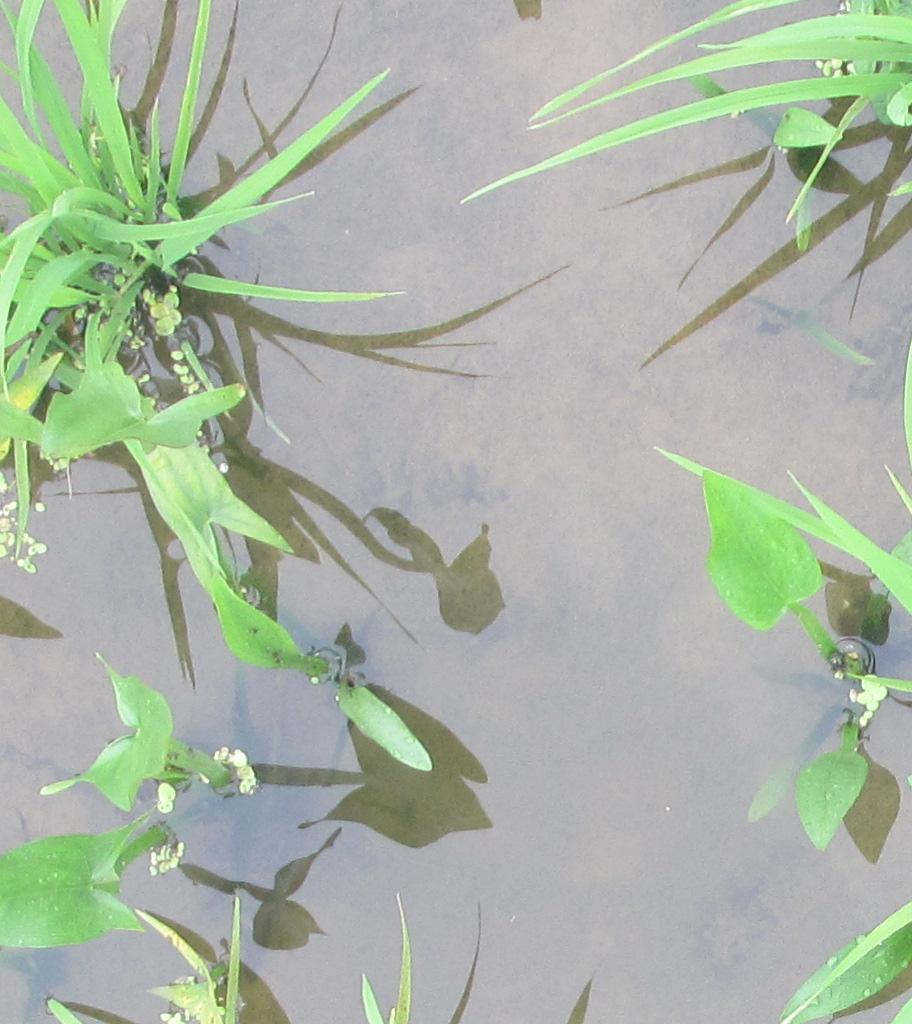Weed: (689, 461, 899, 858), (39, 366, 288, 622), (64, 639, 249, 814), (7, 822, 147, 958), (777, 99, 849, 167)
